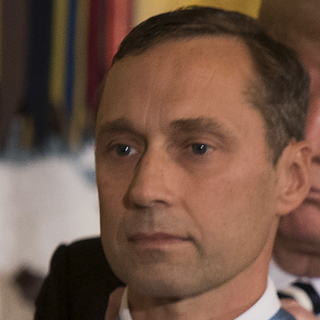eye: (177, 136, 224, 161), (107, 139, 140, 159)
